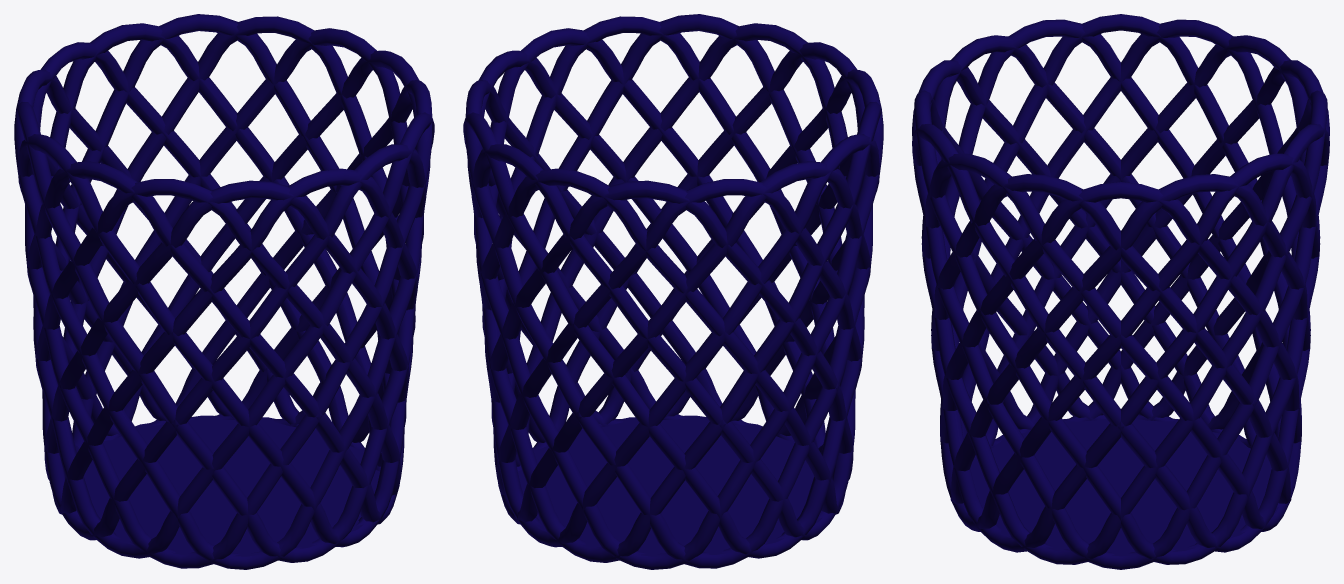
The model's file is Basura.fbx.
The picture shows the model from 3 angles, left to right: view 1: azimuth 30°, elevation 25°; view 2: azimuth 150°, elevation 25°; view 3: azimuth 270°, elevation 25°; orthographic projection.
Visible parts, largest first — view 1: Basura; view 2: Basura; view 3: Basura.
Part boxes in pixels (box(x1,y1,x2,y2)): Basura: box(14, 14, 434, 569); Basura: box(463, 14, 883, 569); Basura: box(912, 14, 1329, 569).
Size of the model in its own units: 205 by 218 by 205.
